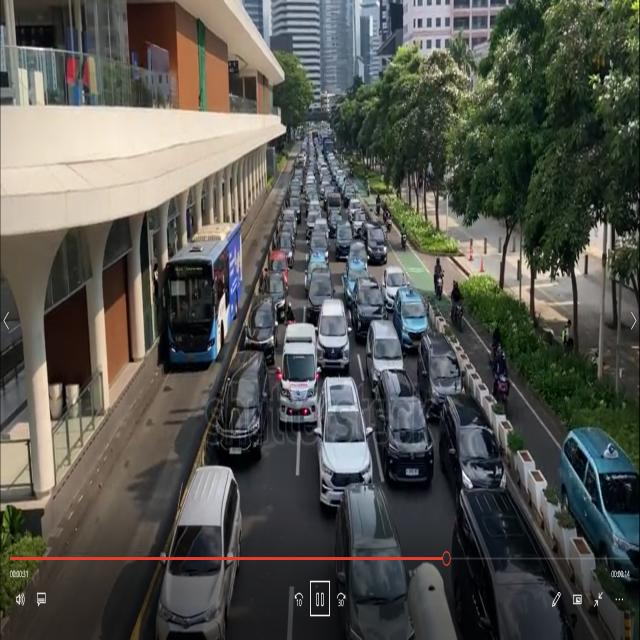Ambulance: (272, 310, 322, 434)
